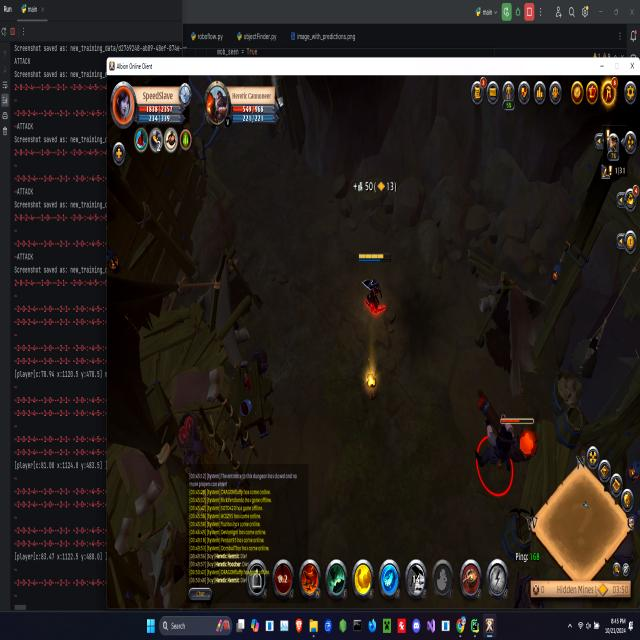ore: (472, 397, 536, 500)
red: (354, 250, 392, 322)
